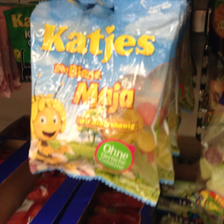candy: (29, 2, 182, 202)
